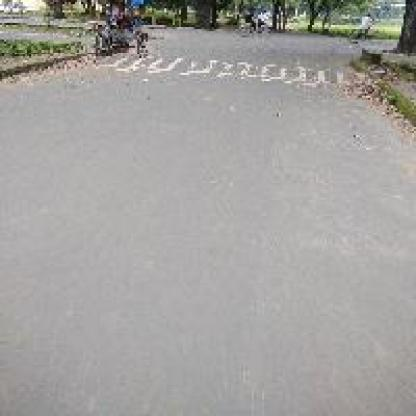Speed Bump: (150, 54, 352, 83)
